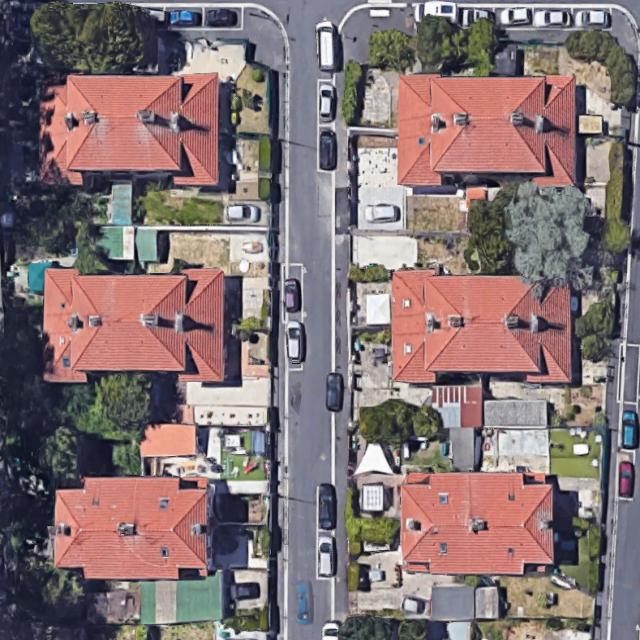maison: (389, 269, 572, 385), (45, 269, 223, 381), (42, 73, 218, 185), (398, 74, 574, 185), (52, 474, 212, 581), (401, 473, 553, 574)
